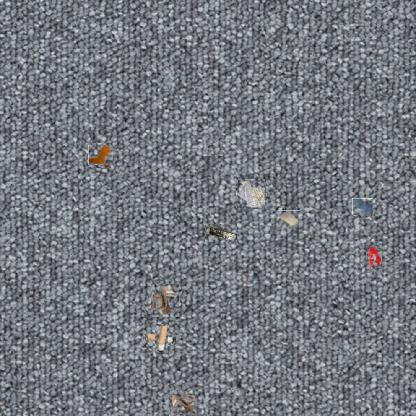dirty: (150, 285, 180, 316), (236, 179, 266, 209), (170, 389, 194, 415), (205, 224, 237, 242), (90, 144, 112, 167), (150, 328, 172, 350), (278, 210, 300, 227)
liquid: (366, 245, 382, 269), (352, 198, 373, 215)
